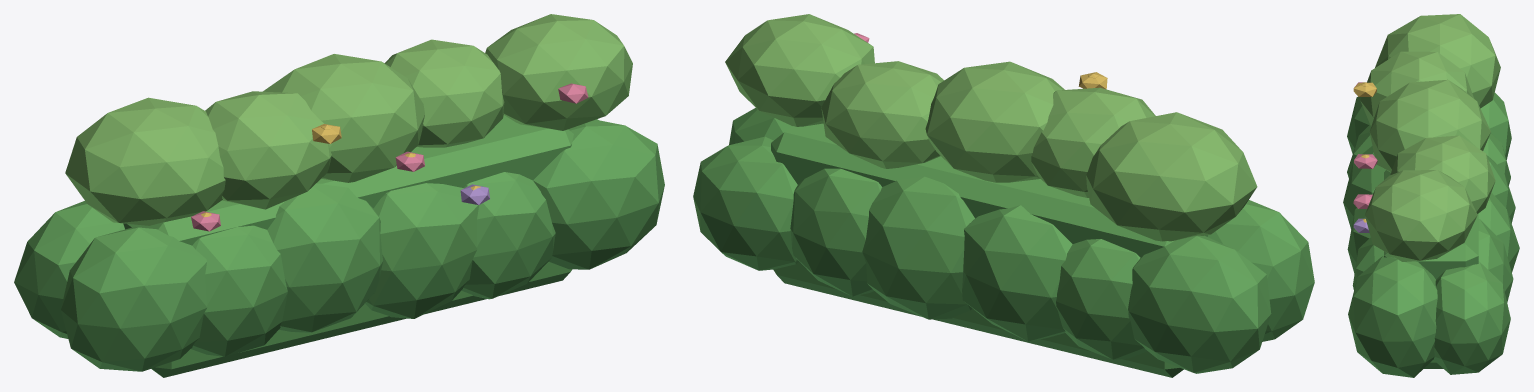
Rendered from ranch_hedge_segment.fbx.
3 renders of one model, left to right at view 1: azimuth 30°, elevation 25°; view 2: azimuth 150°, elevation 25°; view 3: azimuth 270°, elevation 25°, orthographic. The views are drawn at different scales.
Visible parts, largest first — view 1: ranch_hedge_segment; view 2: ranch_hedge_segment; view 3: ranch_hedge_segment.
Part boxes in pixels (bbox=[...]): ranch_hedge_segment: bbox=[14, 14, 664, 377]; ranch_hedge_segment: bbox=[693, 14, 1314, 377]; ranch_hedge_segment: bbox=[1343, 14, 1519, 377].
Size of the model in its own units: 12.75 by 5.21 by 4.12.
